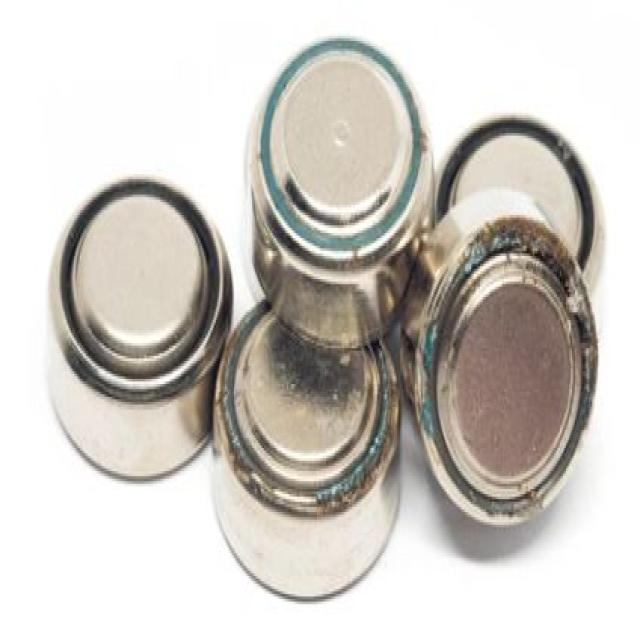electronic: (26, 149, 249, 482)
